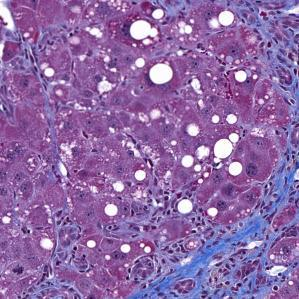fibrosis: (184, 213, 288, 299), (238, 6, 299, 110), (273, 145, 299, 215)
